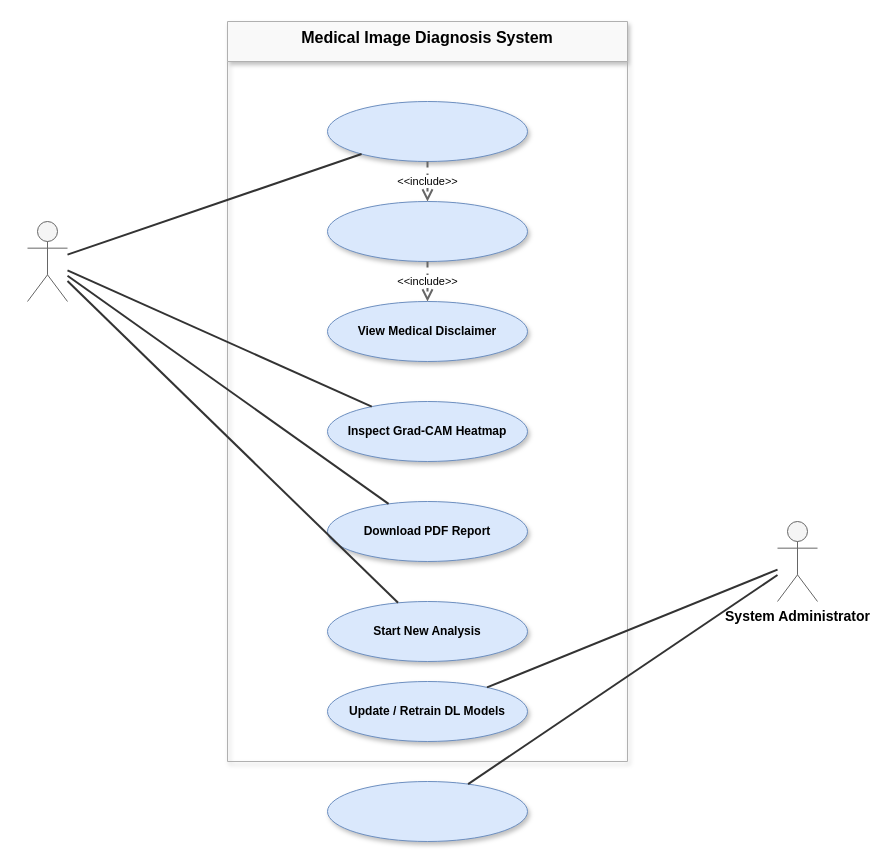
This 887x866 diagram has some shape labels left out. The shapes that lost their labels are listed below. From the top down, each one's centre as x and y in pixels, then its label:
At (x=428, y=132): "Upload Medical Image".
At (x=428, y=232): "View Automated Diagnosis".
At (x=47, y=261): "End User".
At (x=428, y=812): "Monitor Server Health".
